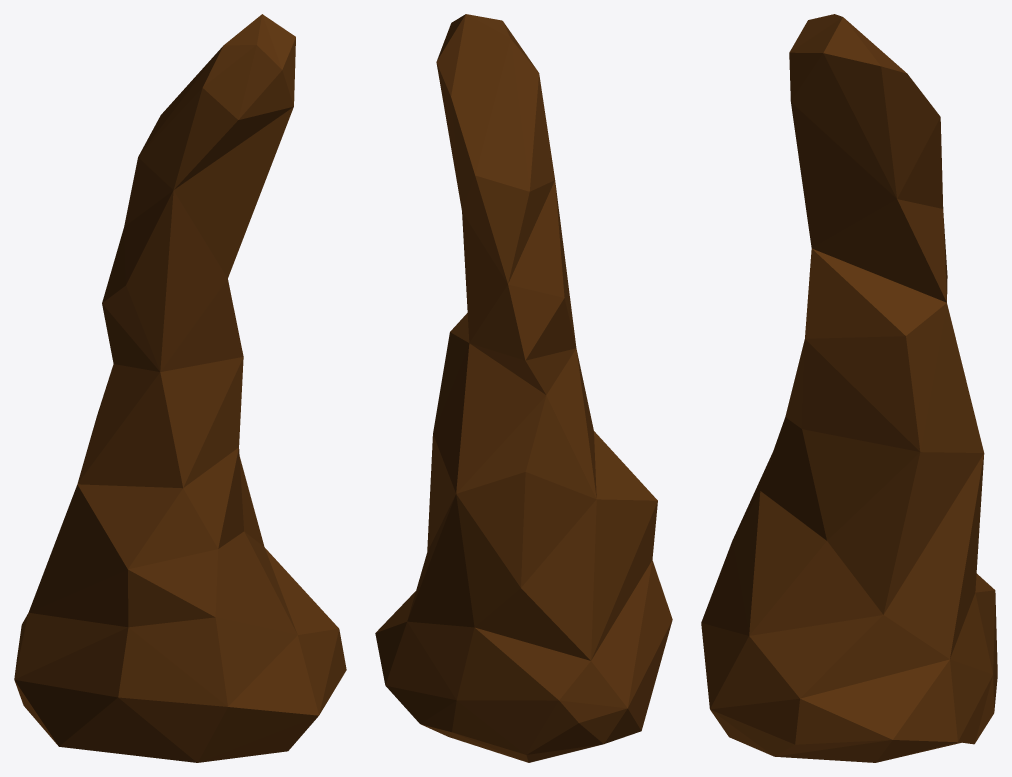
3 renders of one model, left to right at view 1: azimuth 30°, elevation 25°; view 2: azimuth 150°, elevation 25°; view 3: azimuth 270°, elevation 25°, orthographic. The views are drawn at different scales.
Parts seen in each view (by area): view 1: Cube.001; view 2: Cube.001; view 3: Cube.001.
Boxes of the visible parts, left/top/right/bottom form: Cube.001: left=14, top=14, right=346, bottom=762; Cube.001: left=375, top=14, right=672, bottom=762; Cube.001: left=701, top=14, right=997, bottom=762.
Size of the model in its own units: 6.28 by 5.43 by 15.18.
